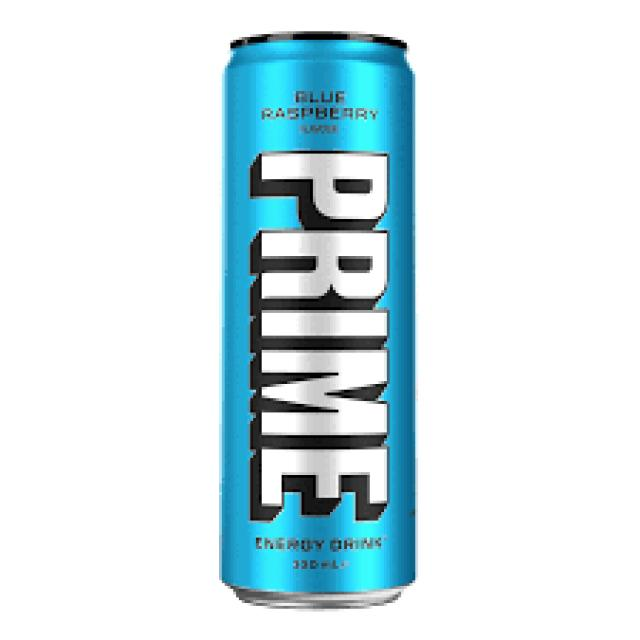Cans: (210, 20, 427, 611)
